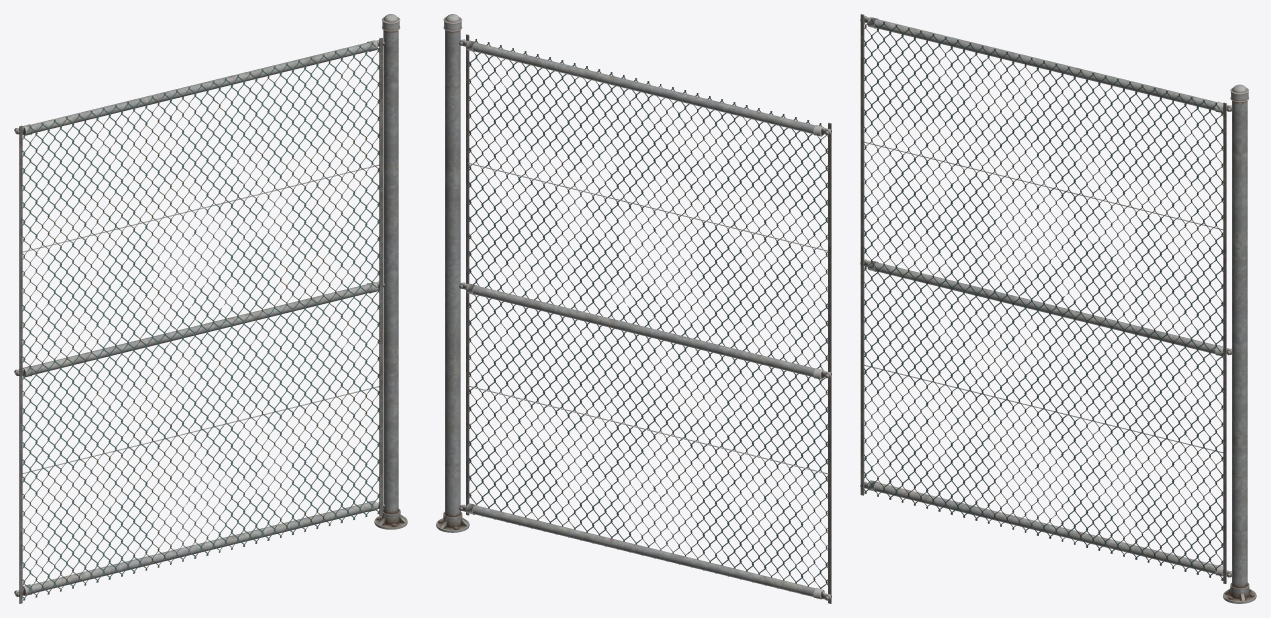
The model's file is ph_fence.glb.
3 renders of one model, left to right at view 1: azimuth 30°, elevation 25°; view 2: azimuth 150°, elevation 25°; view 3: azimuth 330°, elevation 25°, orthographic.
Parts seen in each view (by area): view 1: modular_chainlink_fence_double, modular_chainlink_fence_post; view 2: modular_chainlink_fence_double, modular_chainlink_fence_post; view 3: modular_chainlink_fence_double, modular_chainlink_fence_post.
Part boxes in pixels (left/top/right/bottom): modular_chainlink_fence_double: left=14, top=38, right=384, bottom=603; modular_chainlink_fence_post: left=374, top=14, right=407, bottom=529; modular_chainlink_fence_double: left=459, top=34, right=831, bottom=603; modular_chainlink_fence_post: left=436, top=14, right=469, bottom=532; modular_chainlink_fence_double: left=860, top=14, right=1231, bottom=583; modular_chainlink_fence_post: left=1223, top=84, right=1256, bottom=603.
Bounding box in the file's own units: 2.03 × 2.52 × 0.1494.
2 materials, 2 textured.
